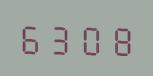eight: (105, 20, 133, 56)
six: (18, 18, 46, 55)
three: (47, 19, 75, 55)
zero: (76, 20, 104, 56)
